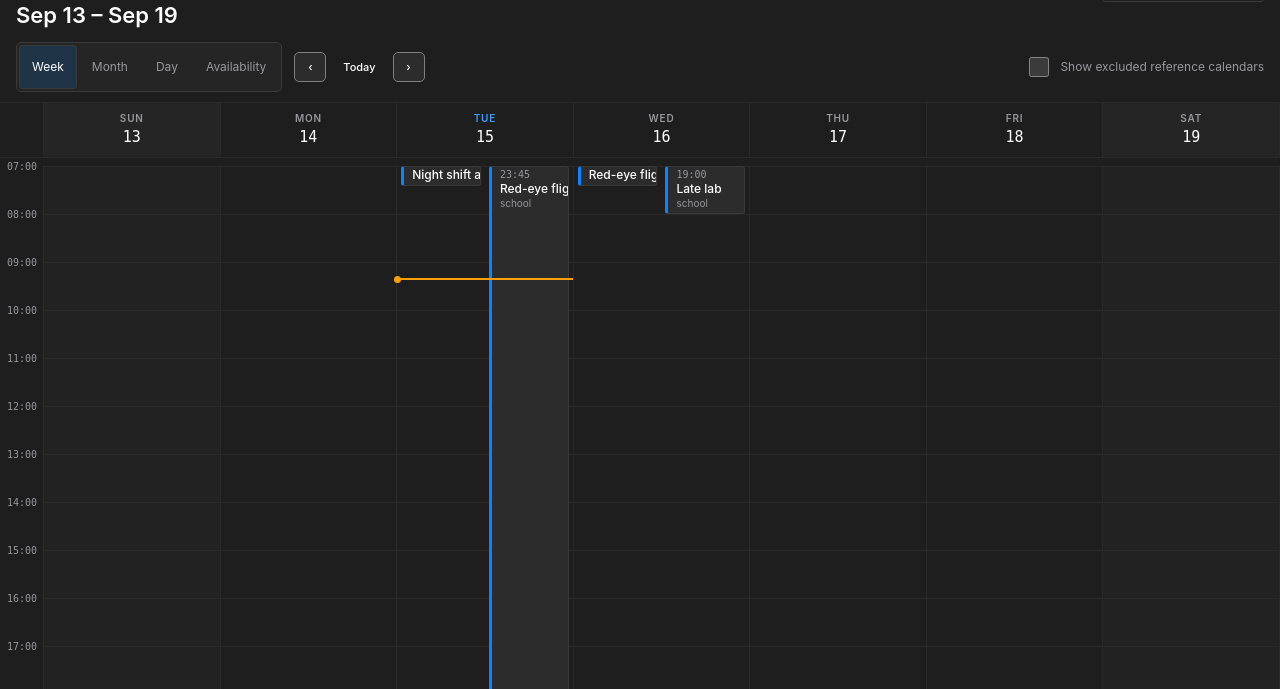
Month and Day views include the days an event continues into › Day view for Tuesday lists the night shift that started Monday
The image size is (1280, 689).
Click the button "Day": (167, 67) 143,45 -> 191,89
(page scrolled)
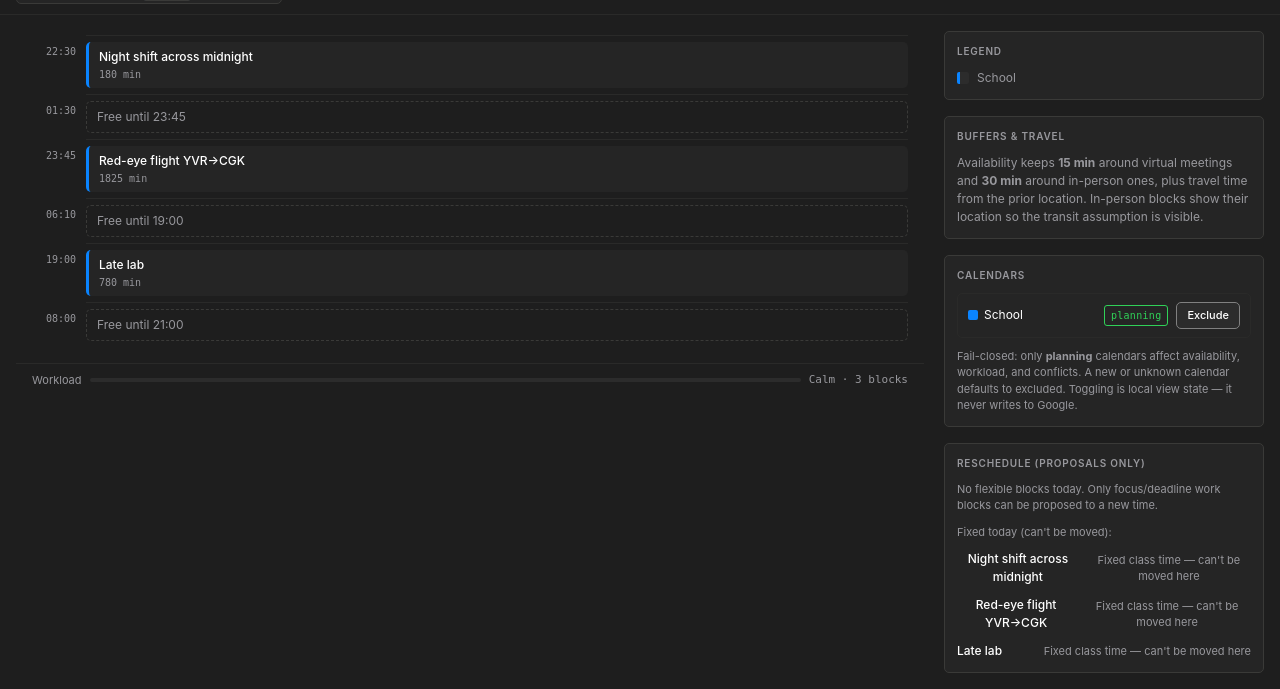
Expected: the element with class "dayview" shows "Night shift across midnight", 99,49 -> 253,64
